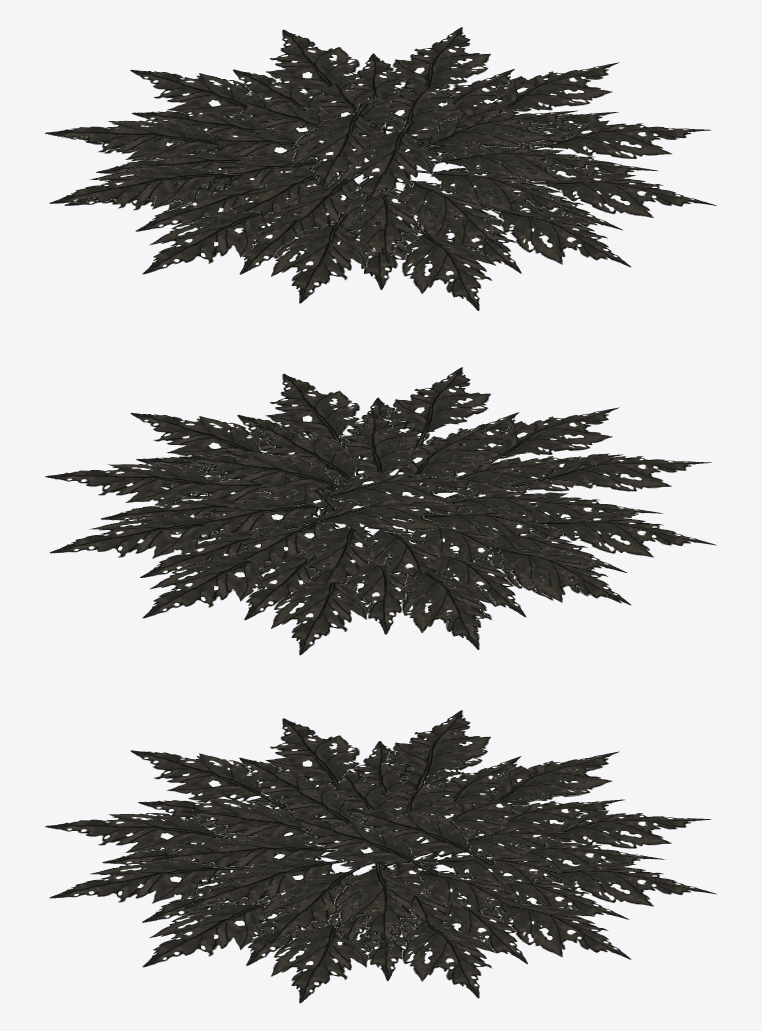
File: hojas ordenadas.fbx
3 renders of one model, top to bottom at view 1: azimuth 30°, elevation 25°; view 2: azimuth 150°, elevation 25°; view 3: azimuth 270°, elevation 25°, orthographic.
Parts seen in each view (by area): view 1: pPlane45; view 2: pPlane45; view 3: pPlane45.
Part boxes in pixels (box(x1,y1,x2,y2)): pPlane45: box(45, 27, 716, 310); pPlane45: box(45, 367, 716, 655); pPlane45: box(45, 710, 716, 1003).
Bounding box in the file's own units: 2.67 × 0.1156 × 2.67.
1 material, 1 textured.
